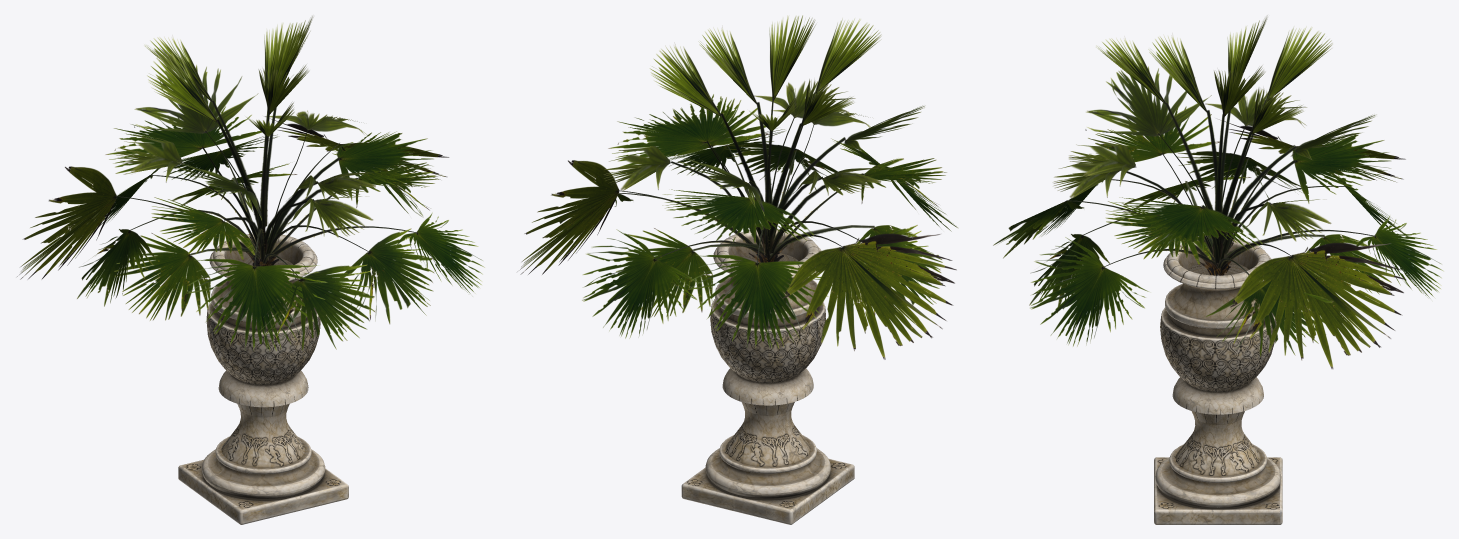
File: vase 2.glb
3 renders of one model, left to right at view 1: azimuth 30°, elevation 25°; view 2: azimuth 150°, elevation 25°; view 3: azimuth 270°, elevation 25°, orthographic.
Visible parts, largest first — view 1: 03_1_03_0, 03_03_0, vase_Flower_Pot_; view 2: 03_1_03_0, 03_03_0, vase_Flower_Pot_; view 3: 03_03_0, 03_1_03_0, vase_Flower_Pot_.
Boxes of the visible parts, x1=… form: 03_1_03_0: x1=17, y1=23, x2=438, y2=350; 03_03_0: x1=77, y1=16, x2=484, y2=351; vase_Flower_Pot_: x1=178, y1=233, x2=348, y2=524; 03_1_03_0: x1=543, y1=18, x2=957, y2=359; 03_03_0: x1=520, y1=15, x2=946, y2=348; vase_Flower_Pot_: x1=681, y1=229, x2=854, y2=524; 03_03_0: x1=993, y1=27, x2=1407, y2=369; 03_1_03_0: x1=1029, y1=15, x2=1443, y2=357; vase_Flower_Pot_: x1=1154, y1=238, x2=1282, y2=524.
Size of the model in its own units: 1.73 by 1.78 by 1.62.
Materials: 2 (2 with a texture image).
